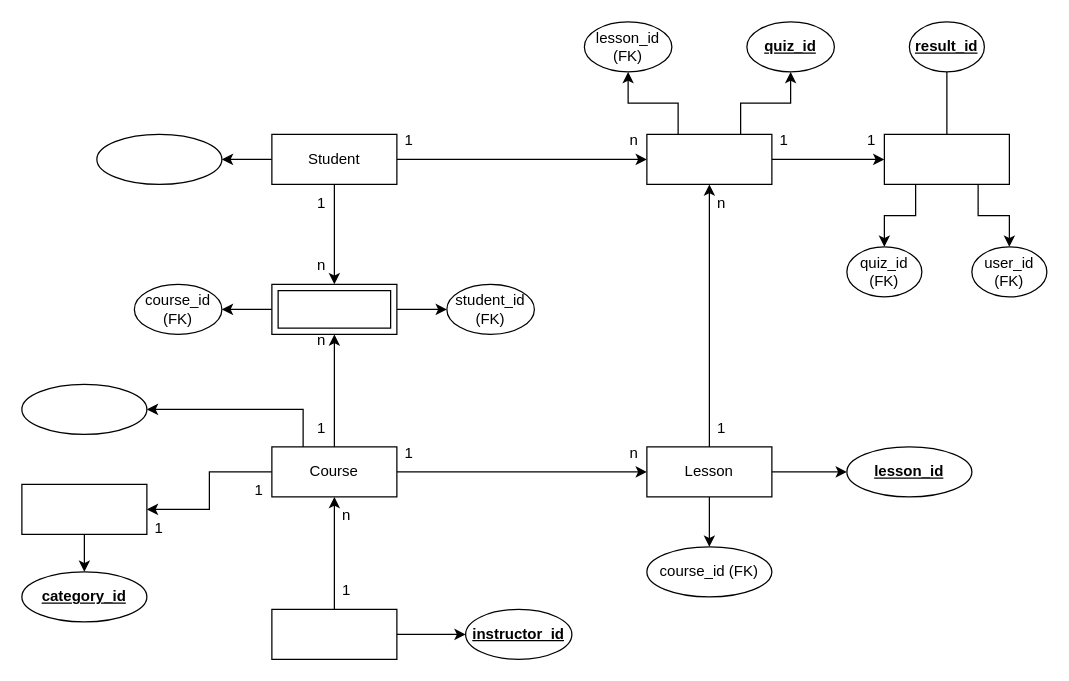
The diagram is 1069 pixels wide and 681 high, and some of its shapes have lost their labels. Here are the shapes that lost their labels. From the top down, the centre of each, then its label:
At point 159,158: "student_id".
At point 709,158: "Quiz".
At point 946,158: "Result".
At point 334,308: "Enrollment".
At point 84,408: "course_id".
At point 84,508: "Category".
At point 334,633: "Instructor".
